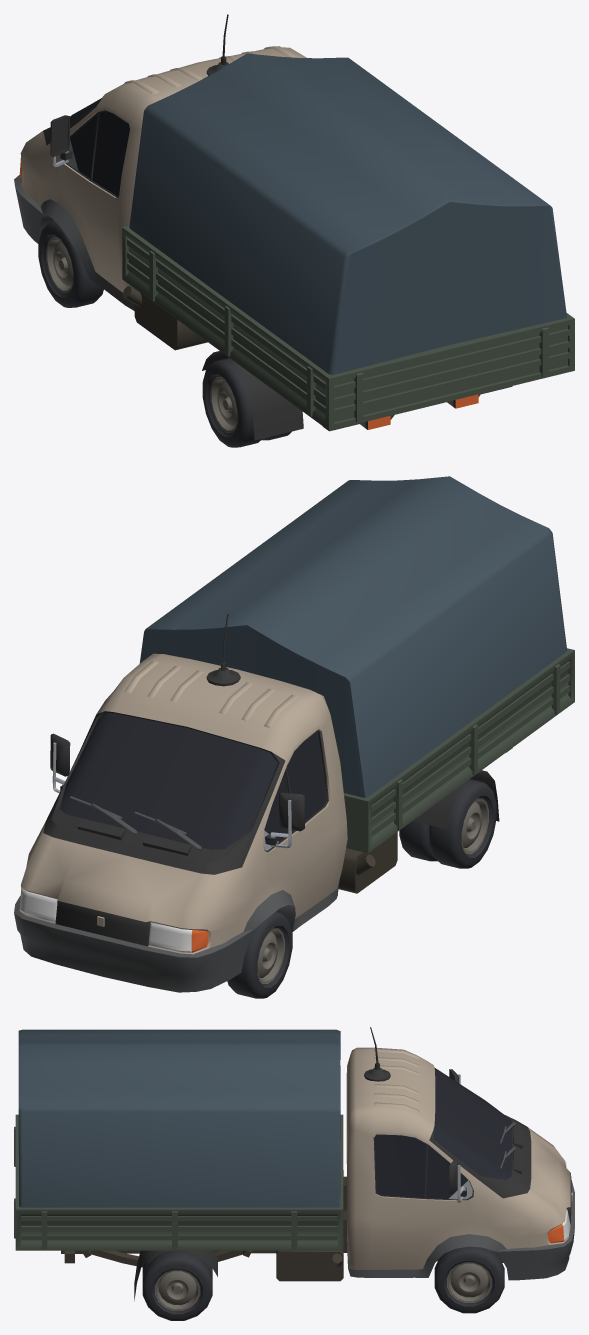
File: Gazel.fbx
3 renders of one model, top to bottom at view 1: azimuth 30°, elevation 25°; view 2: azimuth 150°, elevation 25°; view 3: azimuth 270°, elevation 25°, orthographic. The views are drawn at different scales.
Visible parts, largest first — view 1: gazel_fuselage, gazel_rearwheels_RL, gazel_wheels_FL; view 2: gazel_fuselage, gazel_rearwheels_RL, gazel_wheels_FL, gazel_cleaners; view 3: gazel_fuselage, gazel_rearwheels_RR, gazel_wheels_FR.
Boxes of the visible parts, x1,y1,x2,y2 form: gazel_fuselage: [14, 14, 574, 440]; gazel_rearwheels_RL: [202, 358, 291, 447]; gazel_wheels_FL: [38, 221, 103, 307]; gazel_fuselage: [14, 476, 574, 992]; gazel_rearwheels_RL: [399, 779, 496, 868]; gazel_wheels_FL: [227, 911, 292, 998]; gazel_cleaners: [70, 796, 202, 850]; gazel_fuselage: [14, 1027, 574, 1300]; gazel_rearwheels_RR: [142, 1250, 212, 1320]; gazel_wheels_FR: [434, 1246, 504, 1313].
Bounding box in the file's own units: 2.29 × 2.65 × 5.48.
